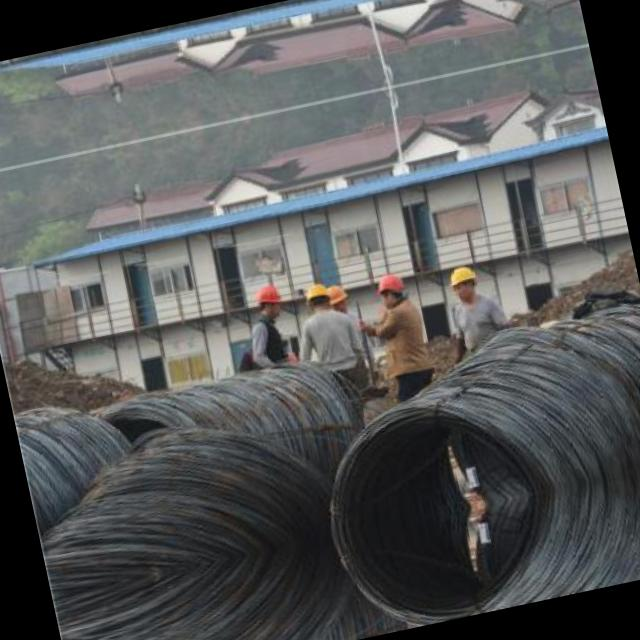helmet: (442, 258, 483, 306), (368, 268, 409, 310), (250, 279, 288, 322), (300, 278, 336, 316), (320, 280, 352, 318)
